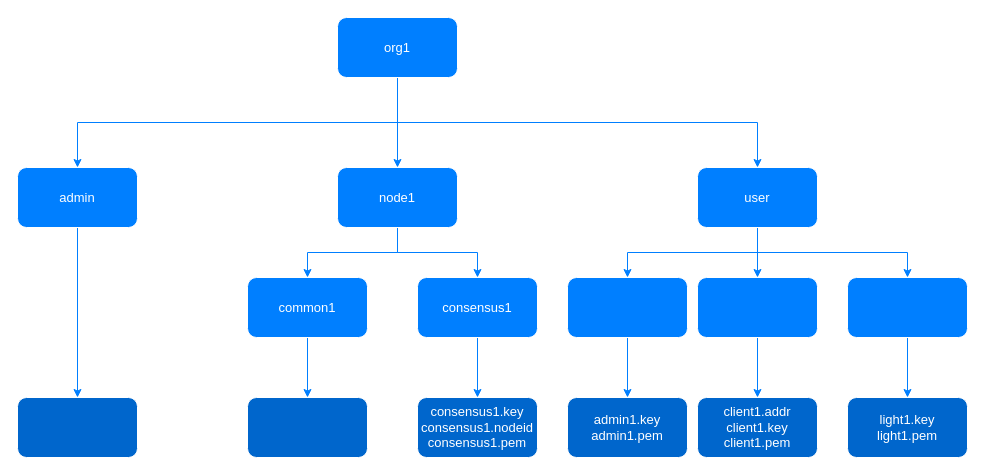
The diagram is 985 pixels wide and 475 high, and some of its shapes have lost their labels. Each missing label, with the centre of its shape:
"admin.key admin.pem" belongs at [77,427].
"admin1" belongs at [627,307].
"client1" belongs at [757,307].
"common1.key common1.nodeid common1.pem" belongs at [307,427].
"light1" belongs at [907,307].
